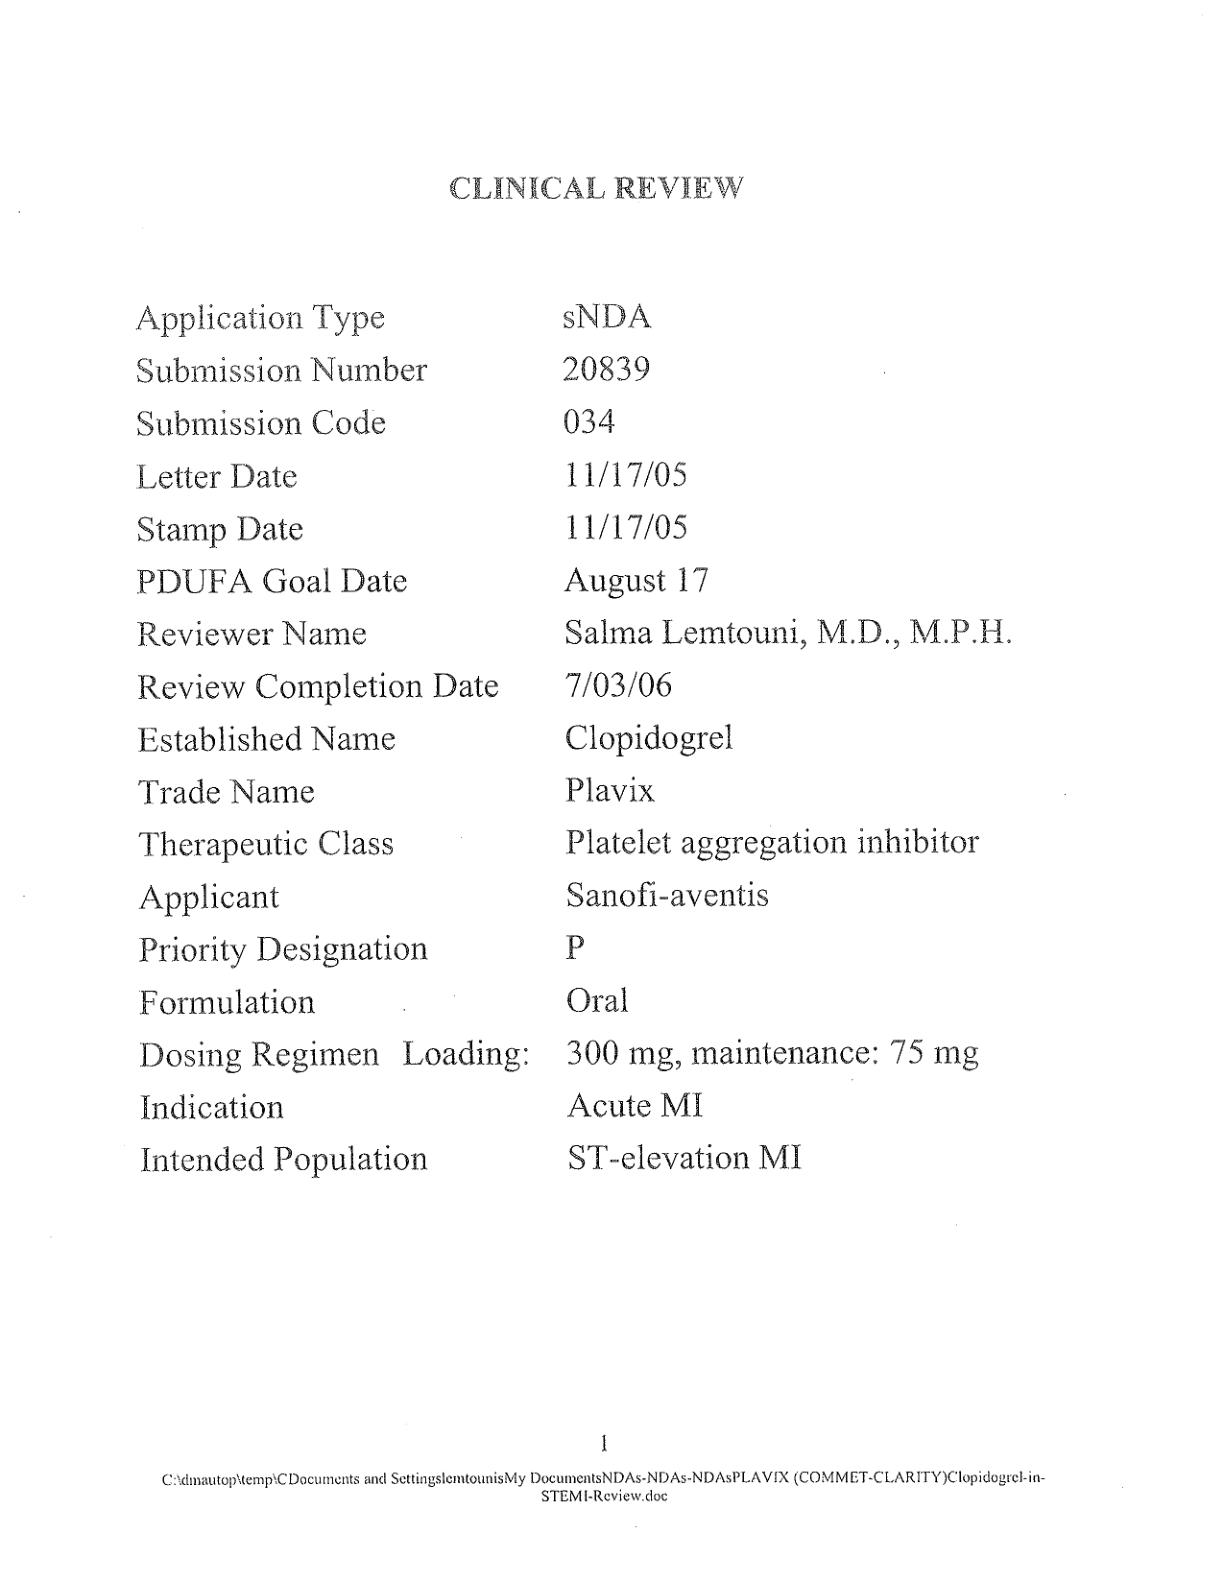nolines: (131, 297, 1016, 1174)
